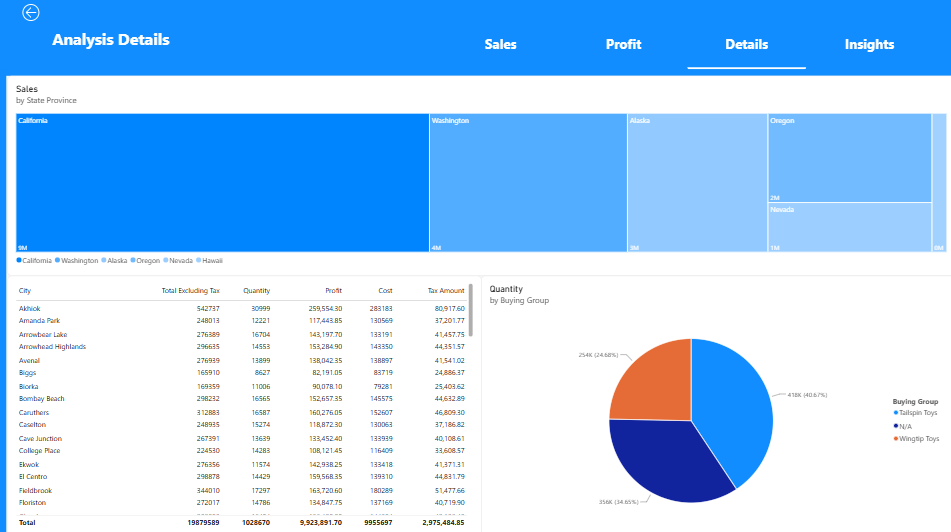

This screenshot's page, from the dashboard's own definition file:
{"tool":"powerbi","page":{"name":"Details","canvas":[1920,1080],"ordinal":2},"visuals":[{"type":"shape","box":[0,0,1919.2,157.7],"z":0},{"type":"shape","box":[0,144.2,23.1,936.5],"z":1000},{"type":"textbox","box":[10.7,62.5,442.9,64.3],"z":2000},{"type":"actionButton","box":[0,0,144,62],"z":3000},{"type":"pageNavigator","box":[892,42,978,102],"z":4000},{"type":"treemap","fields":{"Group":["DinCity.State Province"],"Values":["Sum(FactSale.Total Excluding Tax)"]},"box":[24,158,1896,400],"z":5000},{"type":"pieChart","fields":{"Category":["DimCustomer.Buying Group"],"Y":["Sum(FactSale.Quantity)"]},"box":[972,558,948,522],"z":6000},{"type":"tableEx","fields":{"Values":["DinCity.City","Sum(FactSale.Total Excluding Tax)","Sum(FactSale.Quantity)","Sum(FactSale.Profit)","Sum(FactSale.Cost)","Sum(FactSale.Tax Amount)"]},"box":[24,558,948,522],"z":6001}]}

Visuals, with their boxes in screenshot pixels (x1, y1, x2, y2), scaled from the page's 1920x1080 canvas onto the 951x532 screenshot:
shape: 0, 0, 950, 78
shape: 0, 71, 11, 531
textbox: 5, 31, 225, 62
actionButton: 0, 0, 71, 31
pageNavigator: 442, 21, 926, 71
treemap - DinCity.State Province x Sum(FactSale.Total Excluding Tax): 12, 78, 950, 275
pieChart - DimCustomer.Buying Group x Sum(FactSale.Quantity): 481, 275, 950, 531
tableEx - DinCity.City x Sum(FactSale.Total Excluding Tax): 12, 275, 481, 531
